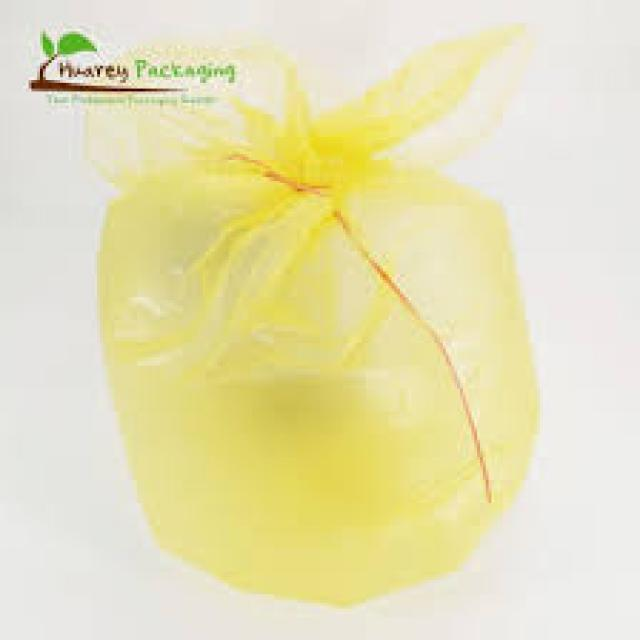waste: (84, 44, 566, 604)
